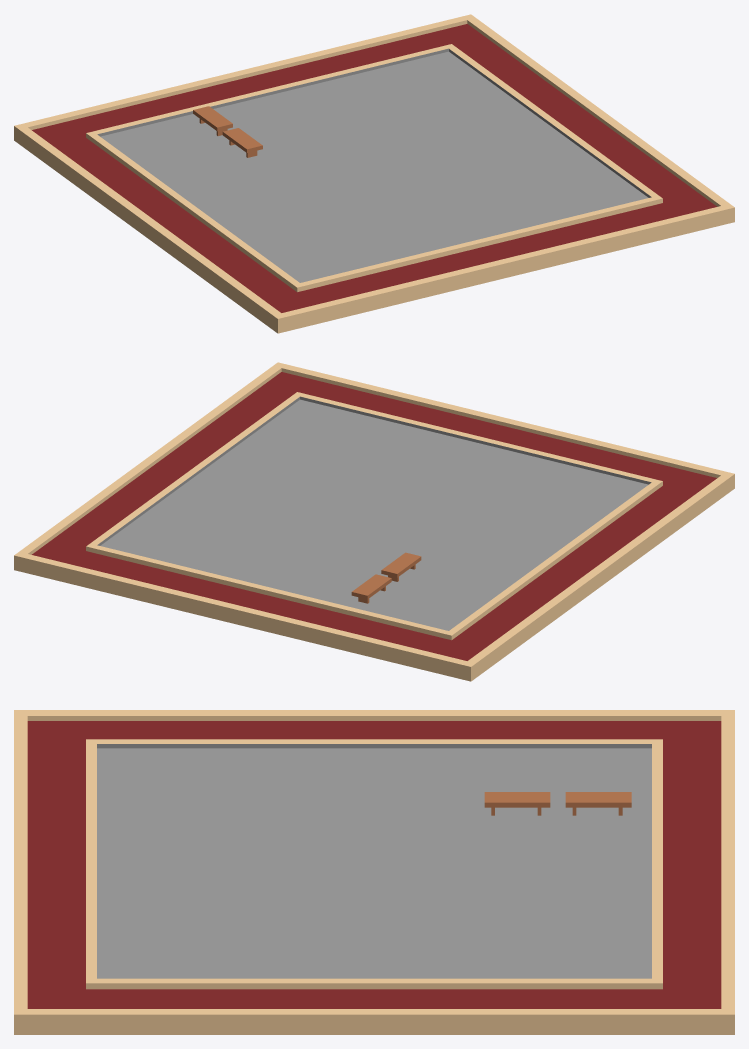
Rendered from floor.glb.
3 renders of one model, top to bottom at view 1: azimuth 30°, elevation 25°; view 2: azimuth 150°, elevation 25°; view 3: azimuth 270°, elevation 25°, orthographic. The views are drawn at different scales.
Parts seen in each view (by area): view 1: Floor_3; view 2: Floor_3; view 3: Floor_3.
Boxes of the visible parts, left/top/right/bottom form: Floor_3: left=14, top=14, right=734, bottom=333; Floor_3: left=14, top=362, right=734, bottom=681; Floor_3: left=14, top=710, right=734, bottom=1034.
Size of the model in its own units: 6.96 by 0.3453 by 6.96.
